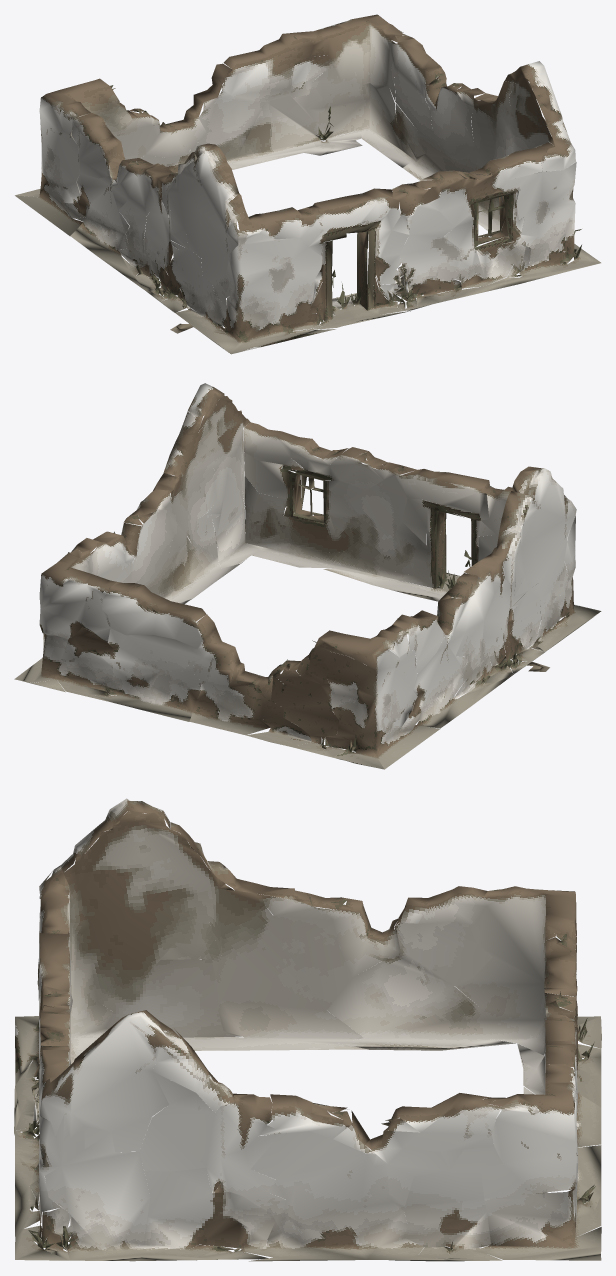
File: tapera.glb
3 views of the same model, one above another, from view 1: azimuth 30°, elevation 25°; view 2: azimuth 150°, elevation 25°; view 3: azimuth 270°, elevation 25° (orthographic). The views are drawn at different scales.
Visible parts, largest first — view 1: tripo_node_77d3d0ab-bac3-46e5-8b84-3699589dca04; view 2: tripo_node_77d3d0ab-bac3-46e5-8b84-3699589dca04; view 3: tripo_node_77d3d0ab-bac3-46e5-8b84-3699589dca04.
Boxes of the visible parts, x1,y1,x2,y2 form: tripo_node_77d3d0ab-bac3-46e5-8b84-3699589dca04: (15, 14, 600, 354); tripo_node_77d3d0ab-bac3-46e5-8b84-3699589dca04: (14, 383, 601, 769); tripo_node_77d3d0ab-bac3-46e5-8b84-3699589dca04: (14, 798, 601, 1261).
Bounding box in the file's own units: 2.05 × 0.9968 × 2.06.
Materials: 1 (1 with a texture image).
